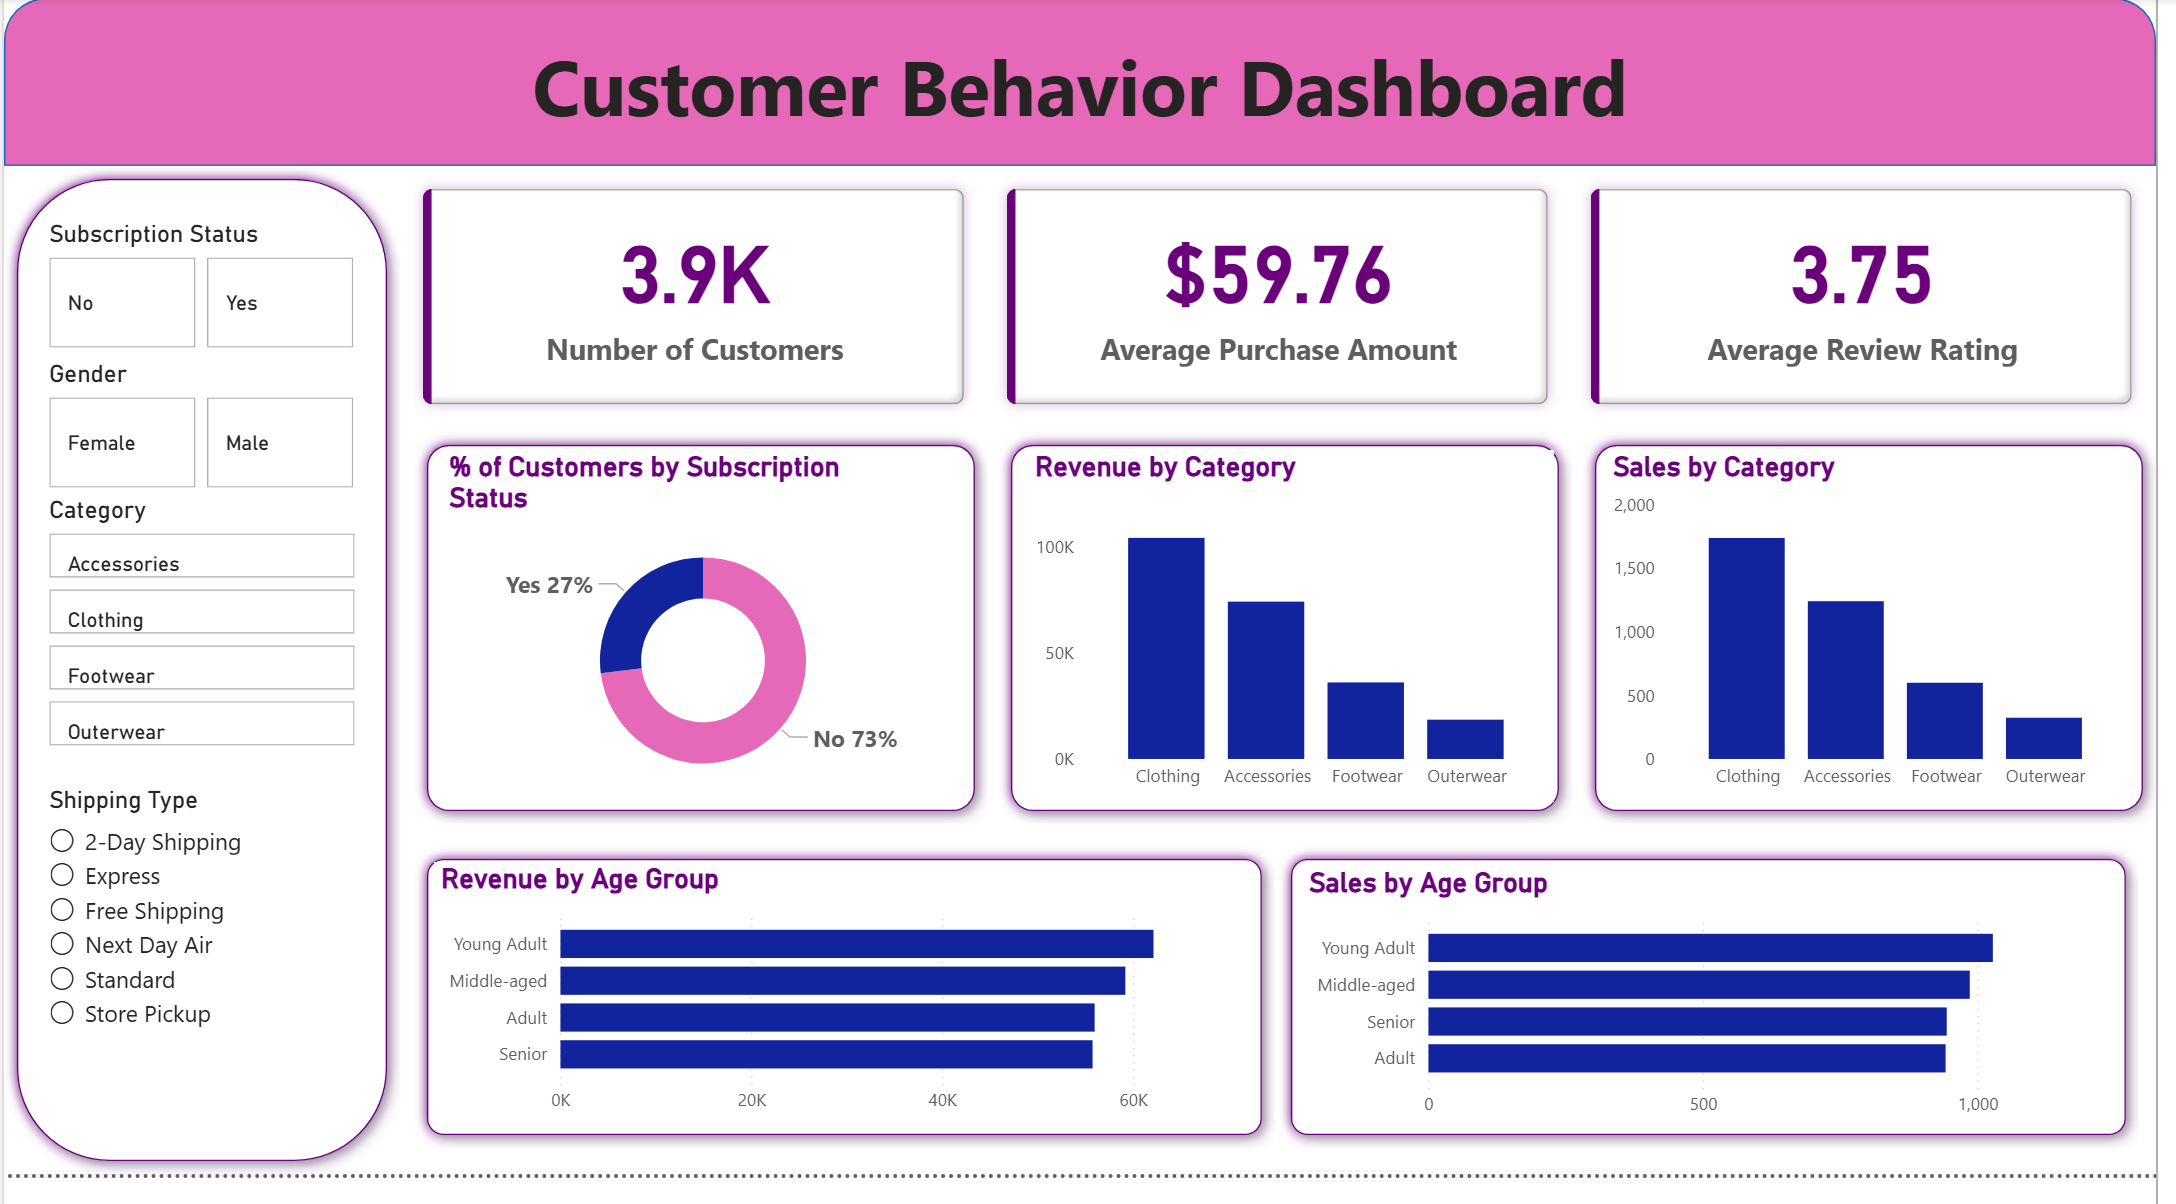

Layout of this report page (visuals, bound fields, positions):
{"tool":"powerbi","page":{"name":"Page 1","canvas":[1500,820],"ordinal":0},"visuals":[{"type":"cardVisual","fields":{"Data":["customer.Number of Customers","customer.Average Purchase Amount","customer.Average Review Rating"]},"box":[276,117.1,1224,182.6],"z":0},{"type":"shape","box":[0,0,1500,117.1],"z":1000},{"type":"textbox","box":[0,19.5,1500,97.6],"z":2000},{"type":"shape","box":[285.8,302.5,400,273.2],"z":3000,"group":"g1"},{"type":"donutChart","title":"% of Customers by Subscription Status","fields":{"Category":["customer.subscription_status"],"Y":["CountNonNull(customer.customer_id)"]},"box":[305.3,315,363.8,245.4],"z":4000,"group":"g1"},{"type":"shape","box":[692.9,302.5,400,273.2],"z":5000,"group":"g2"},{"type":"shape","box":[1100,302.5,400,273.2],"z":6000,"group":"g3"},{"type":"clusteredColumnChart","title":"Revenue by Category","fields":{"Category":["customer.category"],"Y":["Sum(customer.purchase_amount)"]},"box":[713.8,315,366.6,245.4],"z":7000,"group":"g2"},{"type":"clusteredColumnChart","title":"Sales by Category","fields":{"Category":["customer.category"],"Y":["CountNonNull(customer.customer_id)"]},"box":[1116.6,315,366.6,245.4],"z":8000,"group":"g3"},{"type":"shape","box":[0,117.1,276,702.6],"z":9000},{"type":"advancedSlicerVisual","fields":{"Values":["customer.subscription_status"]},"box":[26.5,154.7,223,94.8],"z":10000},{"type":"advancedSlicerVisual","fields":{"Values":["customer.gender"]},"box":[26.5,252.3,223,94.8],"z":11000},{"type":"advancedSlicerVisual","fields":{"Values":["customer.category"]},"box":[26.5,347.1,223,182.6],"z":12000},{"type":"listSlicer","fields":{"Values":["customer.shipping_type"]},"box":[26.5,549.3,223,225.8],"z":13000},{"type":"shape","box":[285.8,591.1,600,210.5],"z":14000,"group":"g5"},{"type":"clusteredBarChart","title":"Revenue by Age Group","fields":{"Category":["customer.age_group"],"Y":["Sum(customer.purchase_amount)"]},"box":[299.7,602.3,568.8,184],"z":15000,"group":"g5"},{"type":"shape","box":[888,591.1,600,210.5],"z":15001,"group":"g6"},{"type":"clusteredBarChart","title":"Sales by Age Group","fields":{"Category":["customer.age_group"],"Y":["CountNonNull(customer.customer_id)"]},"box":[904.7,605,567.4,184],"z":15002,"group":"g6"},{"type":"group","id":"g1","title":"Group 1","box":[285.8,302.5,400,273.2],"z":15003,"group":"g4"},{"type":"group","id":"g2","title":"Group 2","box":[692.9,302.5,400,273.2],"z":15004,"group":"g4"},{"type":"group","id":"g3","title":"Group 3","box":[1100,302.5,400,273.2],"z":15005,"group":"g4"},{"type":"group","id":"g4","title":"Group 4","box":[285.8,302.5,1214.2,273.2],"z":15006},{"type":"group","id":"g5","title":"Group 5","box":[285.8,591.1,600,210.5],"z":15007,"group":"g7"},{"type":"group","id":"g6","title":"Group 6","box":[888,591.1,600,210.5],"z":15008,"group":"g7"},{"type":"group","id":"g7","title":"Group 7","box":[285.8,591.1,1201.7,210.5],"z":15009}]}

Visuals, with their boxes in screenshot pixels (x1, y1, x2, y2), scaled from the page's 1500x820 canvas onto the 2176x1204 screenshot:
cardVisual - customer.Number of Customers x customer.Average Purchase Amount: [400, 172, 2175, 440]
shape: [0, 0, 2175, 172]
textbox: [0, 29, 2175, 172]
shape: [415, 444, 995, 845]
"% of Customers by Subscription Status" donutChart: [443, 463, 971, 823]
shape: [1005, 444, 1585, 845]
shape: [1596, 444, 2175, 845]
"Revenue by Category" clusteredColumnChart: [1035, 463, 1567, 823]
"Sales by Category" clusteredColumnChart: [1620, 463, 2152, 823]
shape: [0, 172, 400, 1203]
advancedSlicerVisual - customer.subscription_status: [38, 227, 362, 366]
advancedSlicerVisual - customer.gender: [38, 370, 362, 510]
advancedSlicerVisual - customer.category: [38, 510, 362, 778]
listSlicer - customer.shipping_type: [38, 807, 362, 1138]
shape: [415, 868, 1285, 1177]
"Revenue by Age Group" clusteredBarChart: [435, 884, 1260, 1155]
shape: [1288, 868, 2159, 1177]
"Sales by Age Group" clusteredBarChart: [1312, 888, 2136, 1158]
"Group 1" group: [415, 444, 995, 845]
"Group 2" group: [1005, 444, 1585, 845]
"Group 3" group: [1596, 444, 2175, 845]
"Group 4" group: [415, 444, 2175, 845]
"Group 5" group: [415, 868, 1285, 1177]
"Group 6" group: [1288, 868, 2159, 1177]
"Group 7" group: [415, 868, 2158, 1177]
